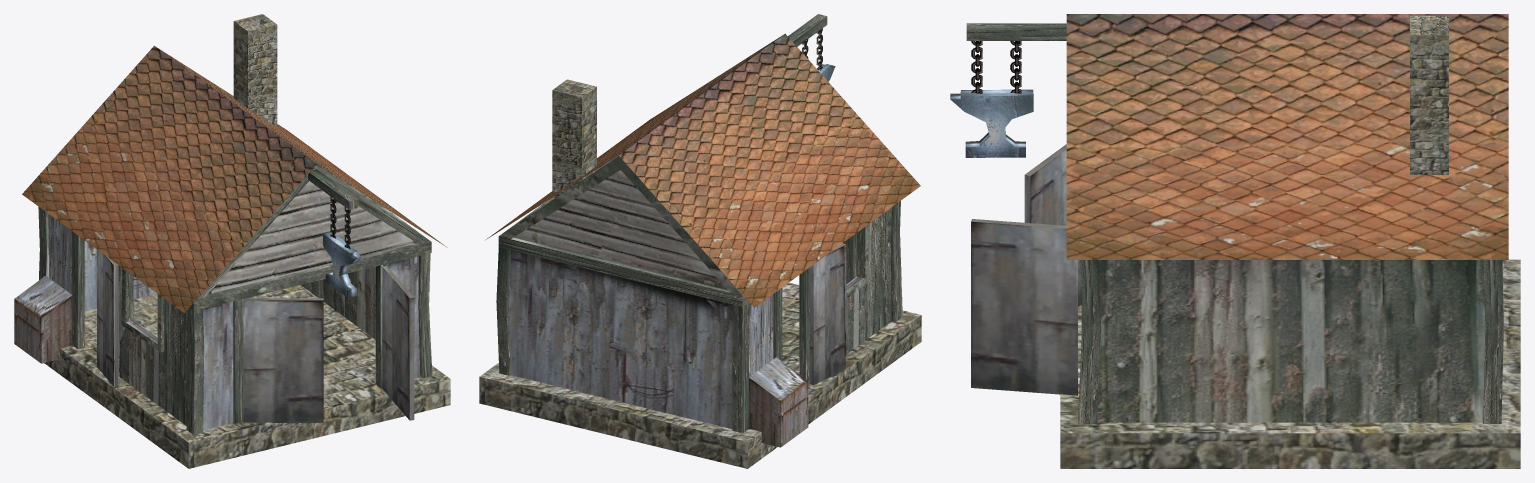
The model's file is building_blacksmith_workshop.glb.
3 views of the same model, side by side, from view 1: azimuth 30°, elevation 25°; view 2: azimuth 150°, elevation 25°; view 3: azimuth 270°, elevation 25° (orthographic). The views are drawn at different scales.
Visible parts, largest first — view 1: building_blacksmith_workshop; view 2: building_blacksmith_workshop; view 3: building_blacksmith_workshop.
Boxes of the visible parts, bbox=[...] form: building_blacksmith_workshop: bbox=[14, 14, 450, 468]; building_blacksmith_workshop: bbox=[479, 14, 921, 468]; building_blacksmith_workshop: bbox=[950, 14, 1520, 468].
Bounding box in the file's own units: 4.73 × 4.77 × 6.11.
6 materials, 6 textured.
